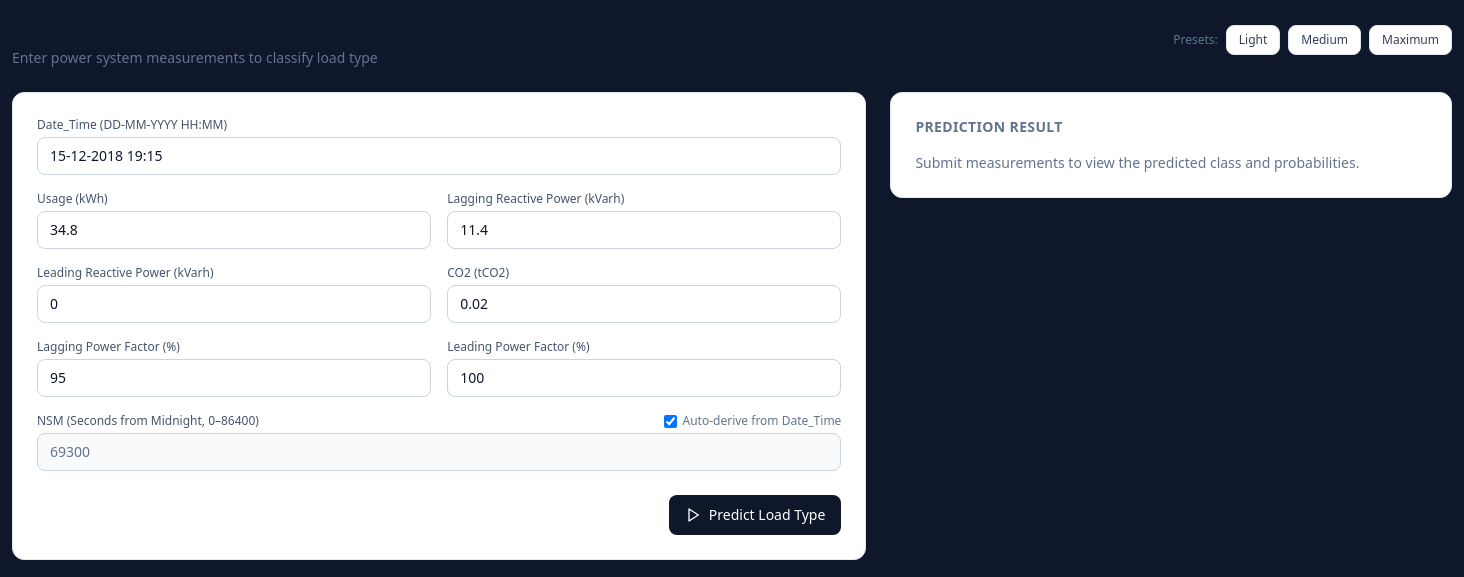
Test: PowerLoad AI Frontend › validates ranges and submits SinglePredictionPage
This screenshot has width=1464, height=577.
Step 1. Click the button "Predict Load Type" → (755, 515), box [669, 495, 841, 535]
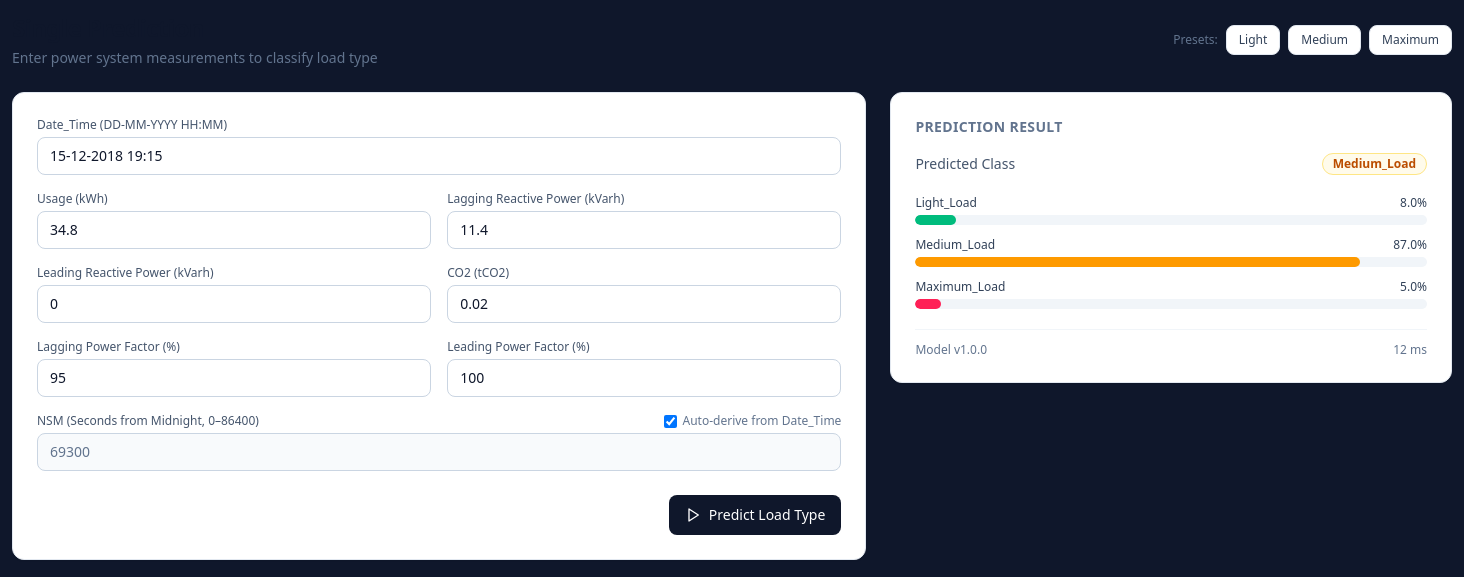
Check: the text "87.0%" is shown, box [1393, 237, 1427, 253]
